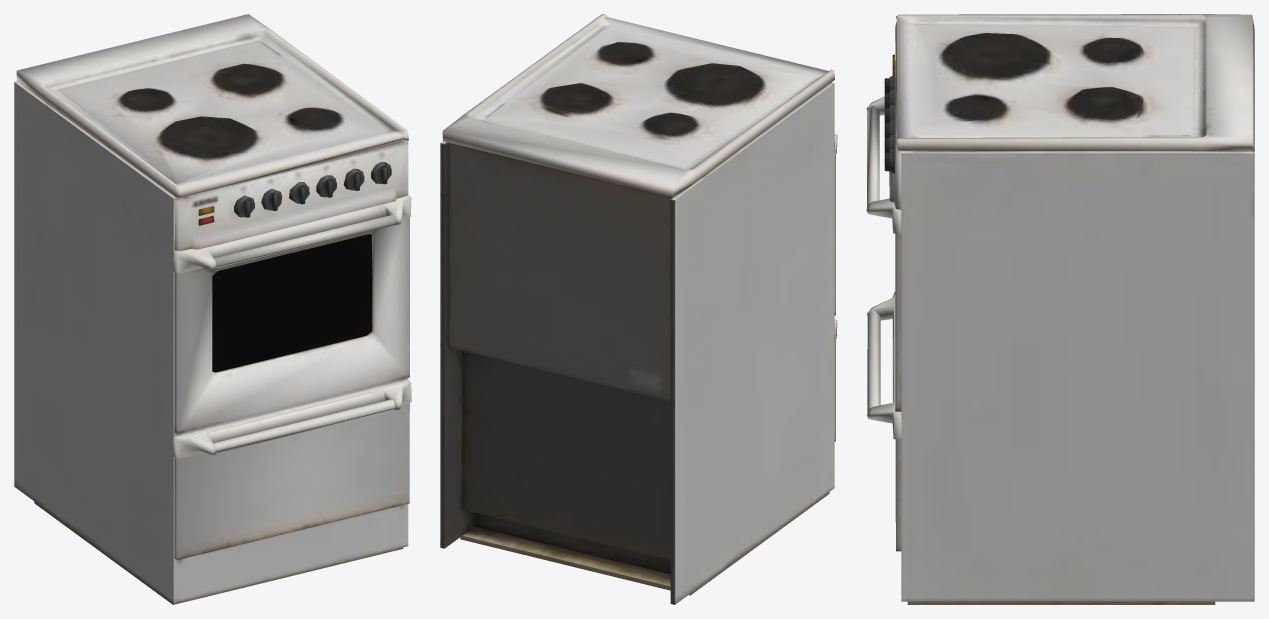
File: electric_stove.glb
3 views of the same model, side by side, from view 1: azimuth 30°, elevation 25°; view 2: azimuth 150°, elevation 25°; view 3: azimuth 270°, elevation 25° (orthographic). The views are drawn at different scales.
Visible parts, largest first — view 1: stovetop, door_top; view 2: stovetop; view 3: stovetop.
Part boxes in pixels (<box>): stovetop: <box>14,14,411,604</box>; door_top: <box>212,234,371,372</box>; stovetop: <box>440,14,837,604</box>; stovetop: <box>866,14,1254,604</box>.
Size of the model in its own units: 0.5026 by 0.8578 by 0.6474.
2 materials, 2 textured.
